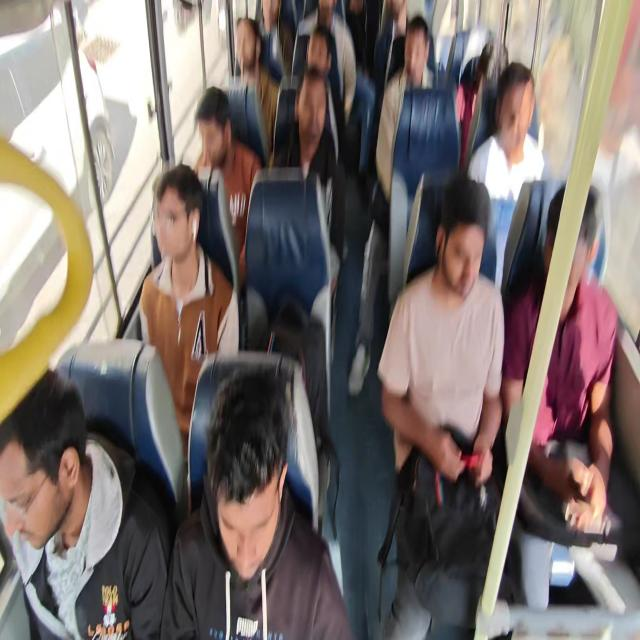person: (186, 363, 312, 598), (0, 357, 117, 607), (517, 192, 612, 372), (149, 162, 220, 321), (430, 172, 490, 310), (490, 68, 551, 203), (224, 19, 282, 99), (293, 77, 337, 173), (188, 80, 230, 151), (406, 18, 442, 92), (338, 0, 371, 72), (299, 34, 338, 84), (476, 32, 512, 85), (257, 0, 284, 42), (315, 1, 336, 34), (384, 0, 406, 31)
